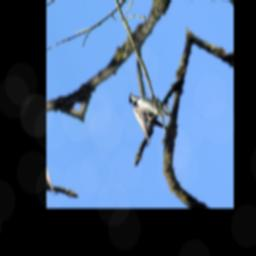Swallow: (125, 76, 180, 147)
